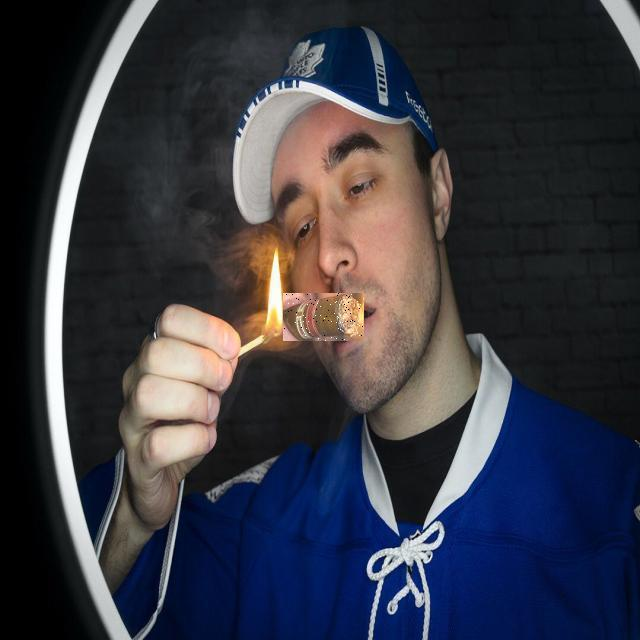smoking: (283, 293, 364, 341)
